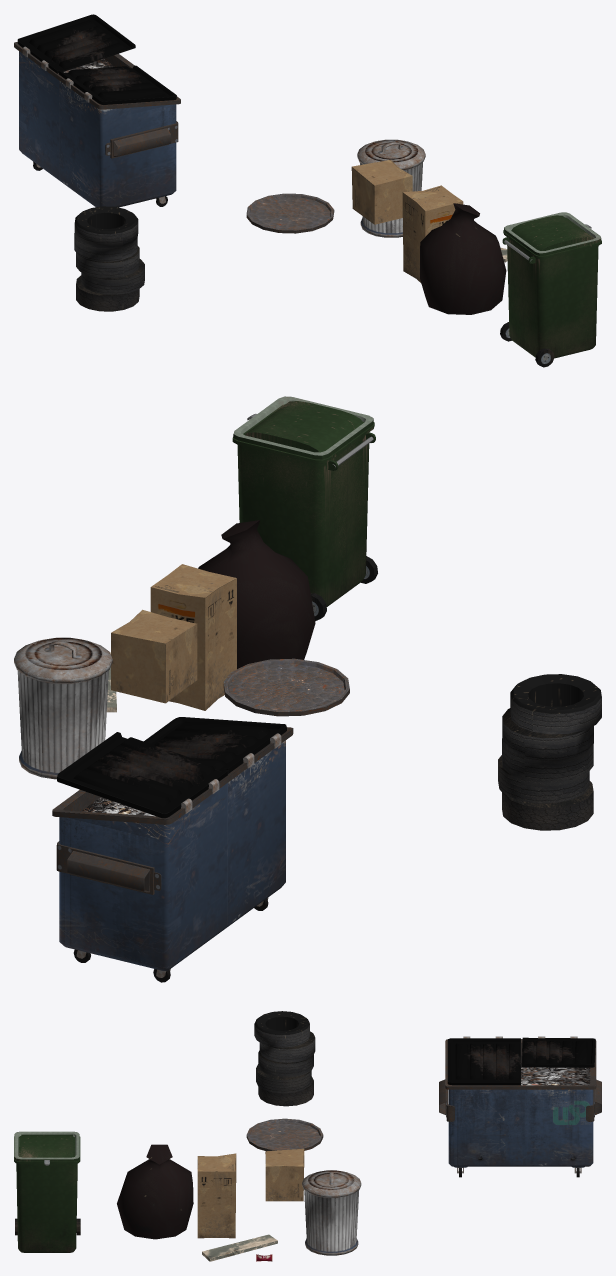
Rendered from trash.FBX.
The picture shows the model from 3 angles, top to bottom: view 1: azimuth 30°, elevation 25°; view 2: azimuth 150°, elevation 25°; view 3: azimuth 270°, elevation 25°; orthographic projection. The views are drawn at different scales.
Visible parts, largest first — view 1: dumpster, dumpster2, garbage_bag, Tire_stack, dumpster_lid2, box_1, dumpster_lid1, box_2, sewer, dumpster2_lid, dumpster3_lid, dumpster3; view 2: dumpster, dumpster2, Tire_stack, garbage_bag, dumpster_lid2, dumpster3, box_2, box_1, sewer, dumpster2_lid, dumpster_lid1, dumpster3_lid; view 3: dumpster, dumpster2, garbage_bag, Tire_stack, dumpster_lid1, box_2, dumpster3, dumpster_lid2, sewer, box_1, dumpster2_lid, dumpster3_lid (+1 smaller).
Boxes of the visible parts, left/top/right/bottom form: dumpster: left=14, top=42, right=180, bottom=207; dumpster2: left=500, top=230, right=601, bottom=367; garbage_bag: left=420, top=203, right=506, bottom=314; Tire_stack: left=74, top=206, right=144, bottom=311; dumpster_lid2: left=17, top=14, right=135, bottom=73; box_1: left=351, top=160, right=412, bottom=224; dumpster_lid1: left=59, top=65, right=176, bottom=104; box_2: left=402, top=185, right=463, bottom=282; sewer: left=246, top=193, right=334, bottom=233; dumpster2_lid: left=504, top=212, right=601, bottom=255; dumpster3_lid: left=357, top=139, right=425, bottom=169; dumpster3: left=359, top=162, right=422, bottom=237; dumpster: left=52, top=727, right=293, bottom=982; dumpster2: left=232, top=422, right=377, bottom=620; Tire_stack: left=498, top=674, right=601, bottom=830; garbage_bag: left=198, top=520, right=315, bottom=668; dumpster_lid2: left=57, top=732, right=228, bottom=818; dumpster3: left=17, top=670, right=108, bottom=779; box_2: left=150, top=564, right=236, bottom=710; box_1: left=111, top=609, right=197, bottom=703; sewer: left=223, top=658, right=349, bottom=716; dumpster2_lid: left=233, top=396, right=373, bottom=459; dumpster_lid1: left=144, top=717, right=286, bottom=773; dumpster3_lid: left=14, top=637, right=112, bottom=683; dumpster: left=439, top=1036, right=601, bottom=1177; dumpster2: left=14, top=1136, right=80, bottom=1252; garbage_bag: left=117, top=1144, right=193, bottom=1239; Tire_stack: left=254, top=1011, right=315, bottom=1106; dumpster_lid1: left=447, top=1038, right=520, bottom=1085; box_2: left=197, top=1153, right=236, bottom=1238; dumpster3: left=304, top=1190, right=358, bottom=1255; dumpster_lid2: left=521, top=1037, right=595, bottom=1067; sewer: left=246, top=1118, right=323, bottom=1151; box_1: left=265, top=1148, right=304, bottom=1201; dumpster2_lid: left=14, top=1131, right=79, bottom=1165; dumpster3_lid: left=302, top=1170, right=361, bottom=1197.
Bounding box in the file's own units: 51.86 × 17.19 × 76.5.
